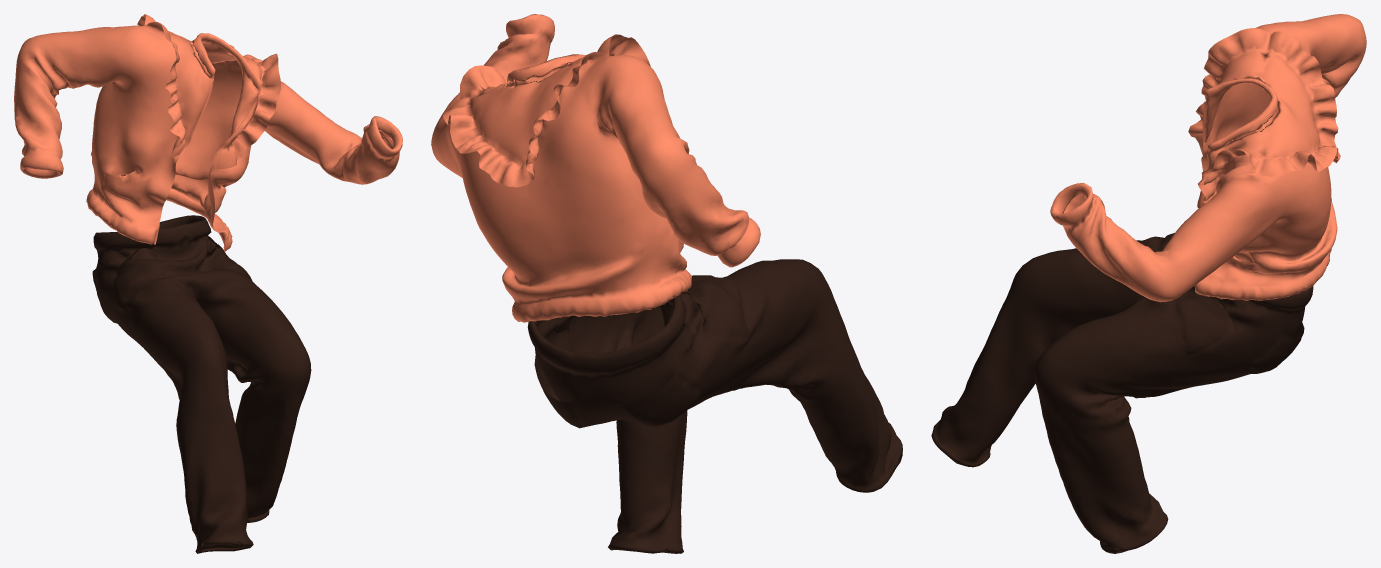
The model's file is z_h_Girl_Outfit_21.obj.
The picture shows the model from 3 angles, left to right: view 1: azimuth 30°, elevation 25°; view 2: azimuth 150°, elevation 25°; view 3: azimuth 270°, elevation 25°; orthographic projection. The views are drawn at different scales.
Visible parts, largest first — view 1: z_h_Girl_Outfit_21.001, z_h_Girl_Outfit_21; view 2: z_h_Girl_Outfit_21.001, z_h_Girl_Outfit_21; view 3: z_h_Girl_Outfit_21, z_h_Girl_Outfit_21.001.
Boxes of the visible parts, bbox=[...] form: z_h_Girl_Outfit_21.001: bbox=[14, 14, 402, 251]; z_h_Girl_Outfit_21: bbox=[92, 215, 311, 553]; z_h_Girl_Outfit_21.001: bbox=[431, 14, 760, 322]; z_h_Girl_Outfit_21: bbox=[527, 259, 902, 553]; z_h_Girl_Outfit_21: bbox=[931, 233, 1313, 553]; z_h_Girl_Outfit_21.001: bbox=[1050, 14, 1366, 302].
Bounding box in the file's own units: 0.794 × 1.14 × 0.8966.
